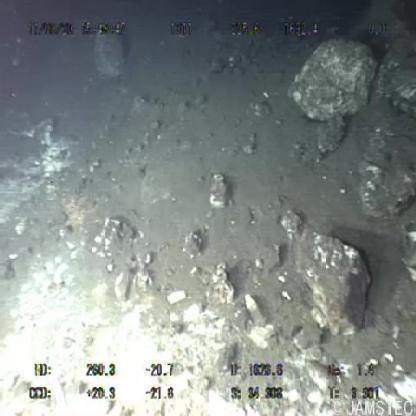Rác: (245, 295, 266, 329)
